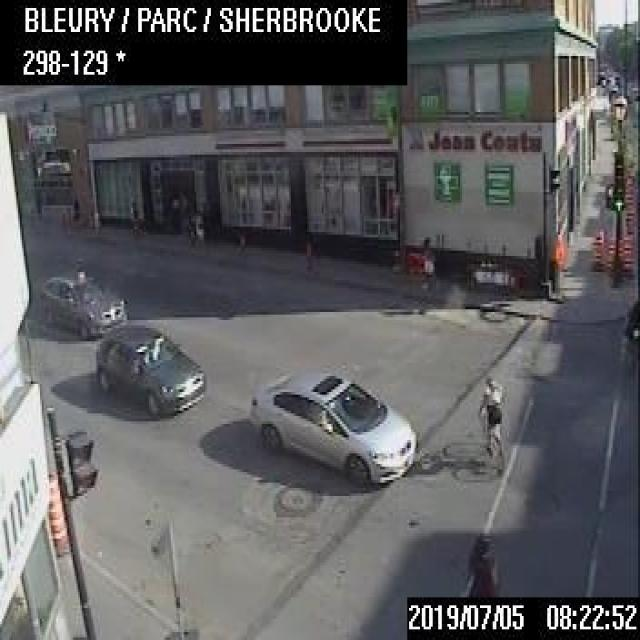construction: (46, 471, 66, 555), (552, 237, 565, 302), (591, 229, 604, 269), (623, 185, 632, 230), (622, 233, 631, 275), (605, 234, 614, 271), (616, 235, 623, 269)
cyclist: (476, 376, 511, 469)
pedestrian: (464, 533, 494, 592), (420, 235, 434, 299)
vehicle: (242, 360, 418, 488), (93, 324, 204, 414), (38, 268, 126, 337)
